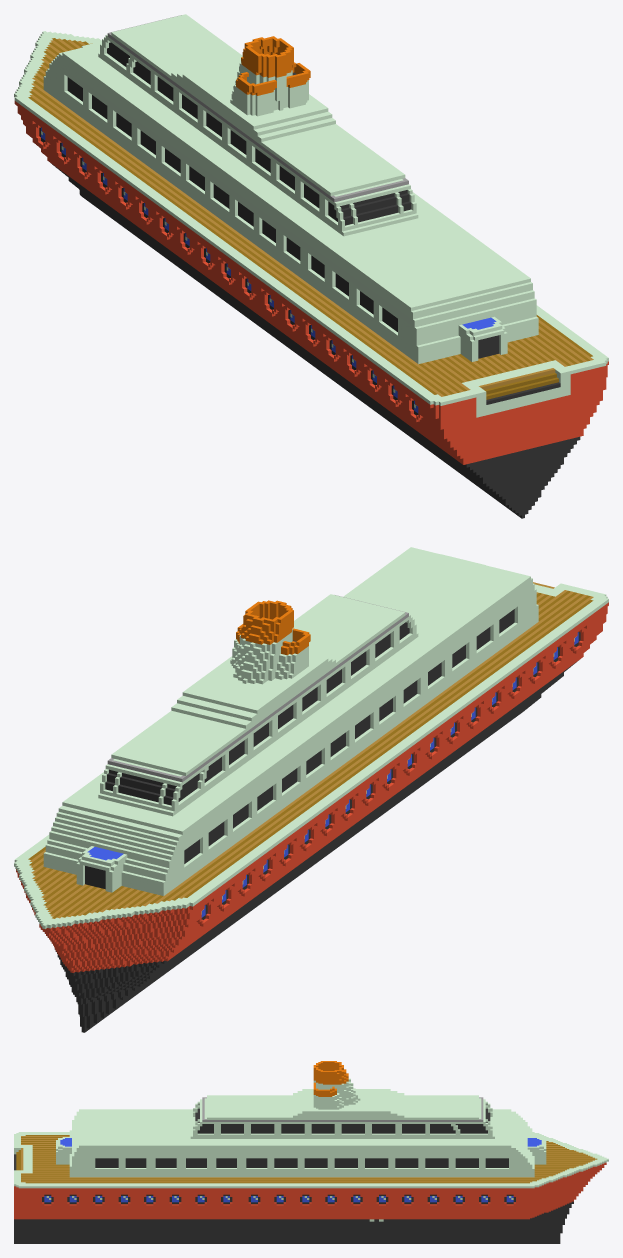
The model's file is SSAqua_Closed.fbx.
3 renders of one model, top to bottom at view 1: azimuth 30°, elevation 25°; view 2: azimuth 150°, elevation 25°; view 3: azimuth 270°, elevation 25°, orthographic. The views are drawn at different scales.
Parts seen in each view (by area): view 1: SSAqua_Closed; view 2: SSAqua_Closed; view 3: SSAqua_Closed.
Part boxes in pixels (box(x1,y1,x2,y2)): SSAqua_Closed: box(14, 14, 608, 518); SSAqua_Closed: box(14, 547, 608, 1032); SSAqua_Closed: box(14, 1061, 608, 1243).
Size of the model in its own units: 10450 by 15960 by 48640.
Materials: 1 (1 with a texture image).
